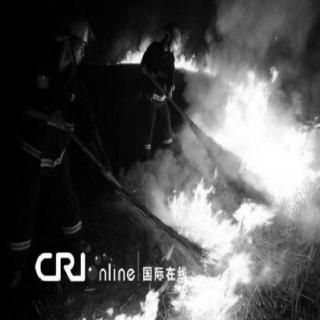Fire: (164, 177, 278, 319), (214, 61, 318, 202)
